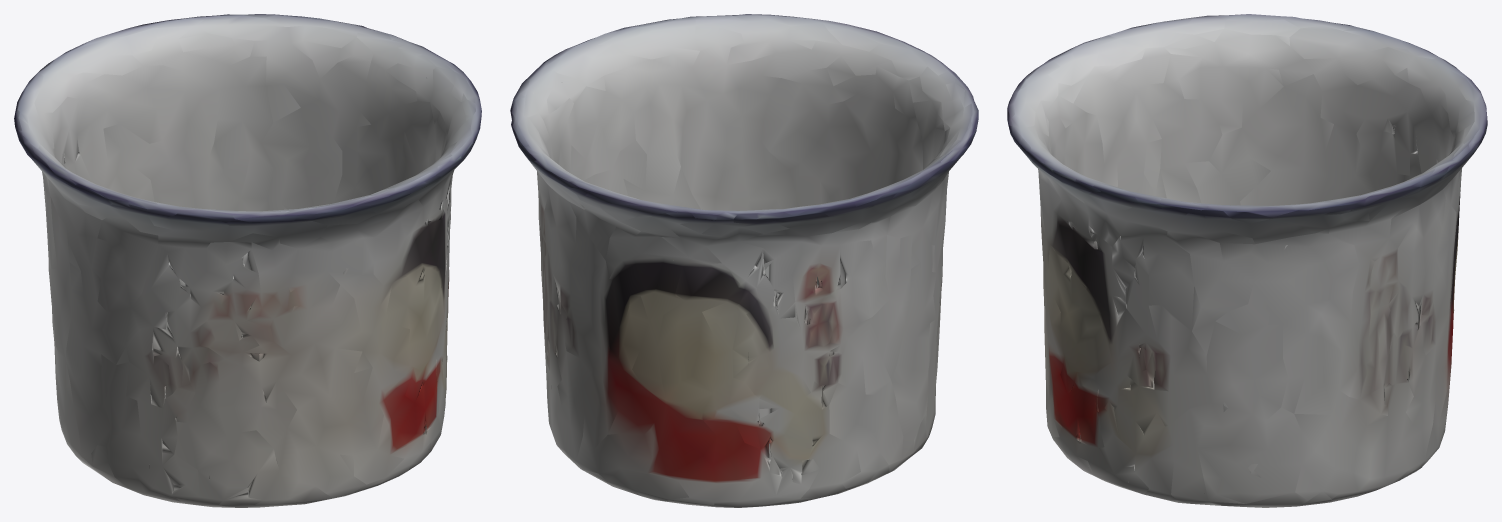
The model's file is 0008_mask_009_small_white_cup.glb.
3 renders of one model, left to right at view 1: azimuth 30°, elevation 25°; view 2: azimuth 150°, elevation 25°; view 3: azimuth 270°, elevation 25°, orthographic.
Parts seen in each view (by area): view 1: mask_009_object; view 2: mask_009_object; view 3: mask_009_object.
Part boxes in pixels (x1,y1,x2,y2): mask_009_object: [14, 14, 481, 507]; mask_009_object: [510, 14, 978, 507]; mask_009_object: [1007, 14, 1487, 507].
Size of the model in its own units: 0.1033 by 0.0793 by 0.1049.
